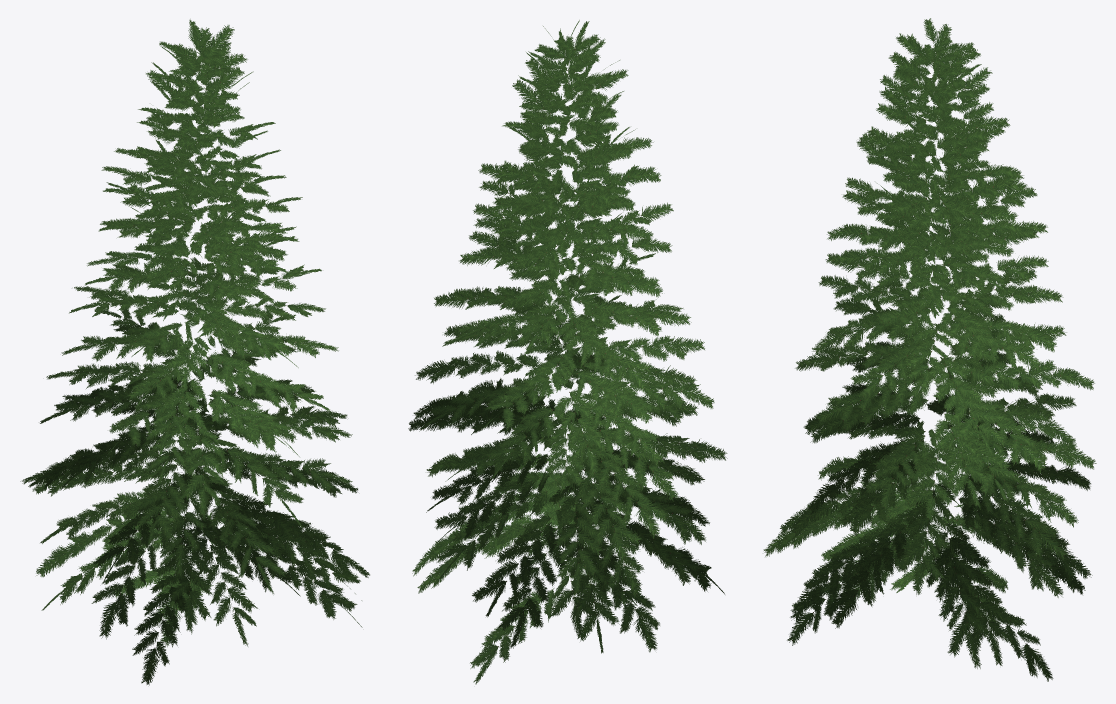
The model's file is SM_Tree_Pine_B_Leaves.glb.
The picture shows the model from 3 angles, left to right: view 1: azimuth 30°, elevation 25°; view 2: azimuth 150°, elevation 25°; view 3: azimuth 270°, elevation 25°; orthographic projection. The views are drawn at different scales.
Visible parts, largest first — view 1: SM_Tree_Pine_B_Leaves; view 2: SM_Tree_Pine_B_Leaves; view 3: SM_Tree_Pine_B_Leaves.
Boxes of the visible parts, x1,y1,x2,y2 form: SM_Tree_Pine_B_Leaves: (20, 19, 369, 685); SM_Tree_Pine_B_Leaves: (408, 20, 727, 684); SM_Tree_Pine_B_Leaves: (763, 18, 1096, 681).
Size of the model in its own units: 9.43 by 19.88 by 9.56.
1 material, 1 textured.
